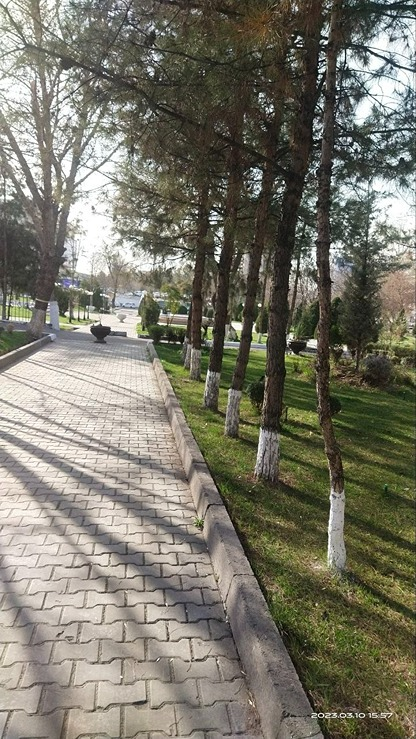tree: (309, 0, 384, 541), (0, 0, 96, 315), (260, 20, 296, 489)
